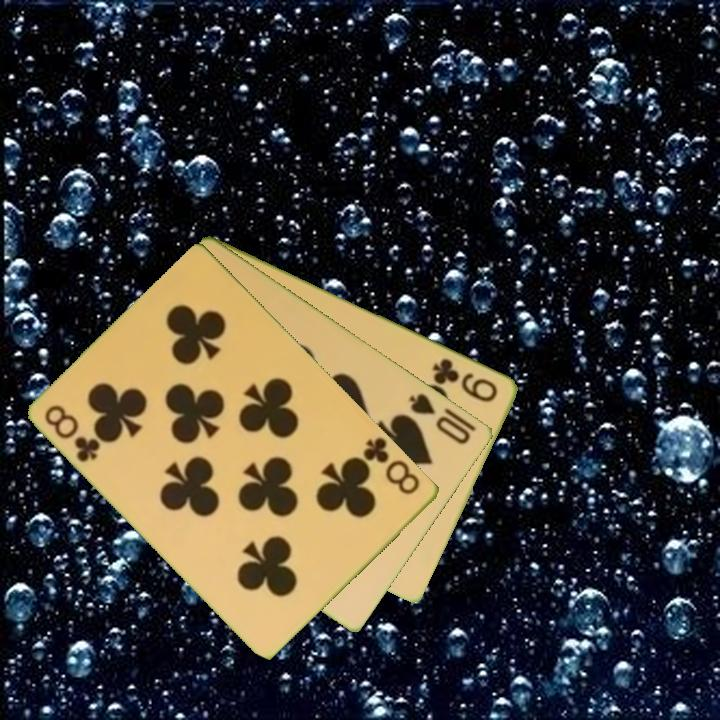10s: (406, 389, 474, 448)
8c: (356, 433, 424, 498), (42, 401, 104, 466)
9c: (429, 354, 502, 405)
